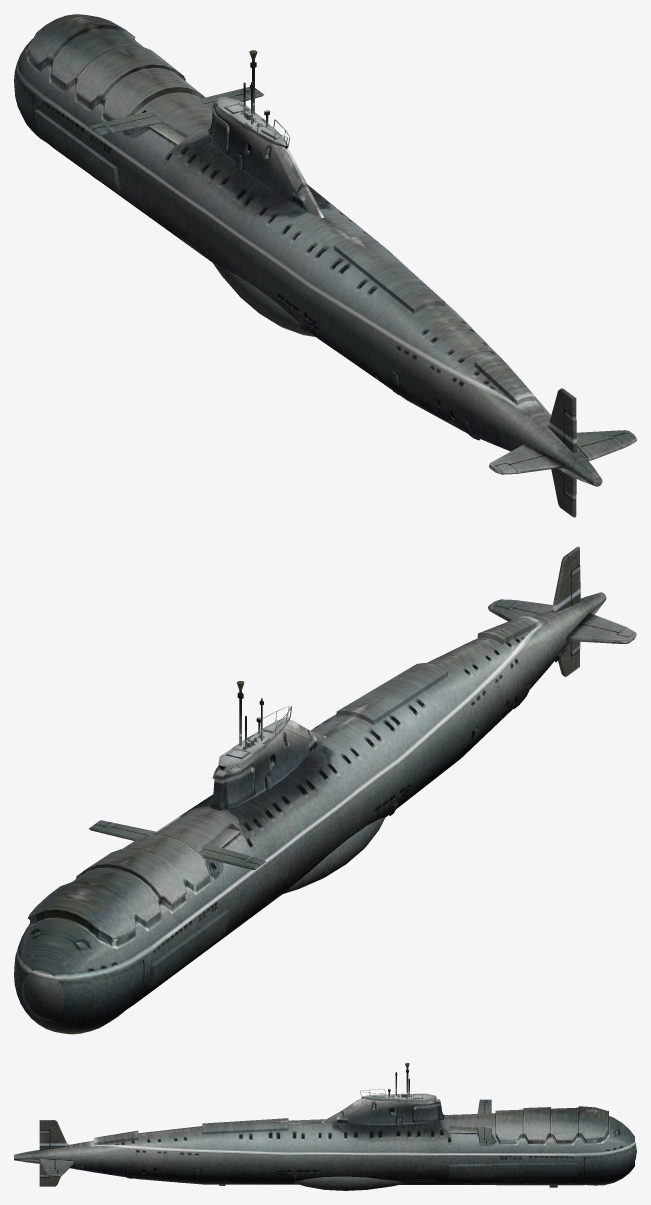
Rendered from subnofan.glb.
3 views of the same model, one above another, from view 1: azimuth 30°, elevation 25°; view 2: azimuth 150°, elevation 25°; view 3: azimuth 270°, elevation 25° (orthographic). The views are drawn at different scales.
Visible parts, largest first — view 1: Cylinder_16, Cylinder.001_15, Plane_12, Plane.003_9, Cylinder.002_14, Plane.006_6, Plane.001_11, Plane.004_8, Plane.002_10; view 2: Cylinder_16, Cylinder.001_15, Plane_12, Plane.003_9, Cylinder.002_14, Plane.006_6, Plane.001_11, Plane.004_8, Plane.005_7; view 3: Cylinder_16, Cylinder.001_15, Plane_12, Cylinder.014_13, Plane.001_11, Plane.006_6, Plane.003_9, Plane.002_10, Plane.005_7.
Part boxes in pixels (x1=…): Cylinder_16: x1=14, y1=39, x2=602, y2=486; Cylinder.001_15: x1=26, y1=14, x2=205, y2=121; Plane_12: x1=208, y1=102, x2=323, y2=217; Plane.003_9: x1=489, y1=430, x2=636, y2=474; Cylinder.002_14: x1=212, y1=262, x2=315, y2=336; Plane.006_6: x1=217, y1=82, x2=288, y2=149; Plane.001_11: x1=548, y1=388, x2=576, y2=453; Plane.004_8: x1=88, y1=112, x2=162, y2=135; Plane.002_10: x1=551, y1=442, x2=576, y2=517; Cylinder_16: x1=14, y1=592, x2=606, y2=1034; Cylinder.001_15: x1=28, y1=834, x2=209, y2=946; Plane_12: x1=209, y1=720, x2=325, y2=810; Plane.003_9: x1=488, y1=599, x2=636, y2=643; Cylinder.002_14: x1=283, y1=816, x2=385, y2=893; Plane.006_6: x1=218, y1=715, x2=290, y2=770; Plane.001_11: x1=551, y1=546, x2=580, y2=612; Plane.004_8: x1=198, y1=844, x2=265, y2=870; Plane.005_7: x1=89, y1=820, x2=156, y2=840; Cylinder_16: x1=14, y1=1113, x2=636, y2=1187; Cylinder.001_15: x1=495, y1=1106, x2=608, y2=1144; Plane_12: x1=321, y1=1098, x2=444, y2=1125; Cylinder.014_13: x1=294, y1=1176, x2=405, y2=1190; Plane.001_11: x1=39, y1=1120, x2=67, y2=1150; Plane.006_6: x1=361, y1=1078, x2=436, y2=1102; Plane.003_9: x1=38, y1=1143, x2=74, y2=1176; Plane.002_10: x1=39, y1=1149, x2=60, y2=1186; Plane.005_7: x1=477, y1=1127, x2=491, y2=1145.
Bounding box in the file's own units: 0.2346 × 0.3016 × 1.36.
Materials: 1 (1 with a texture image).
